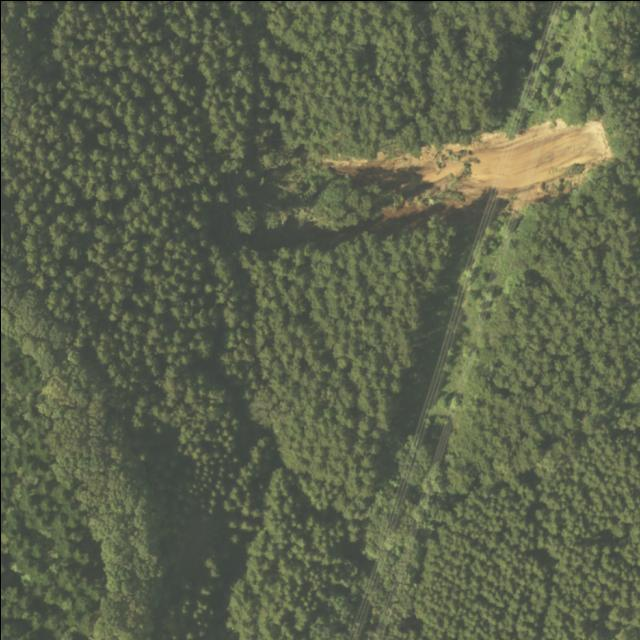landslide: (325, 117, 614, 209)
